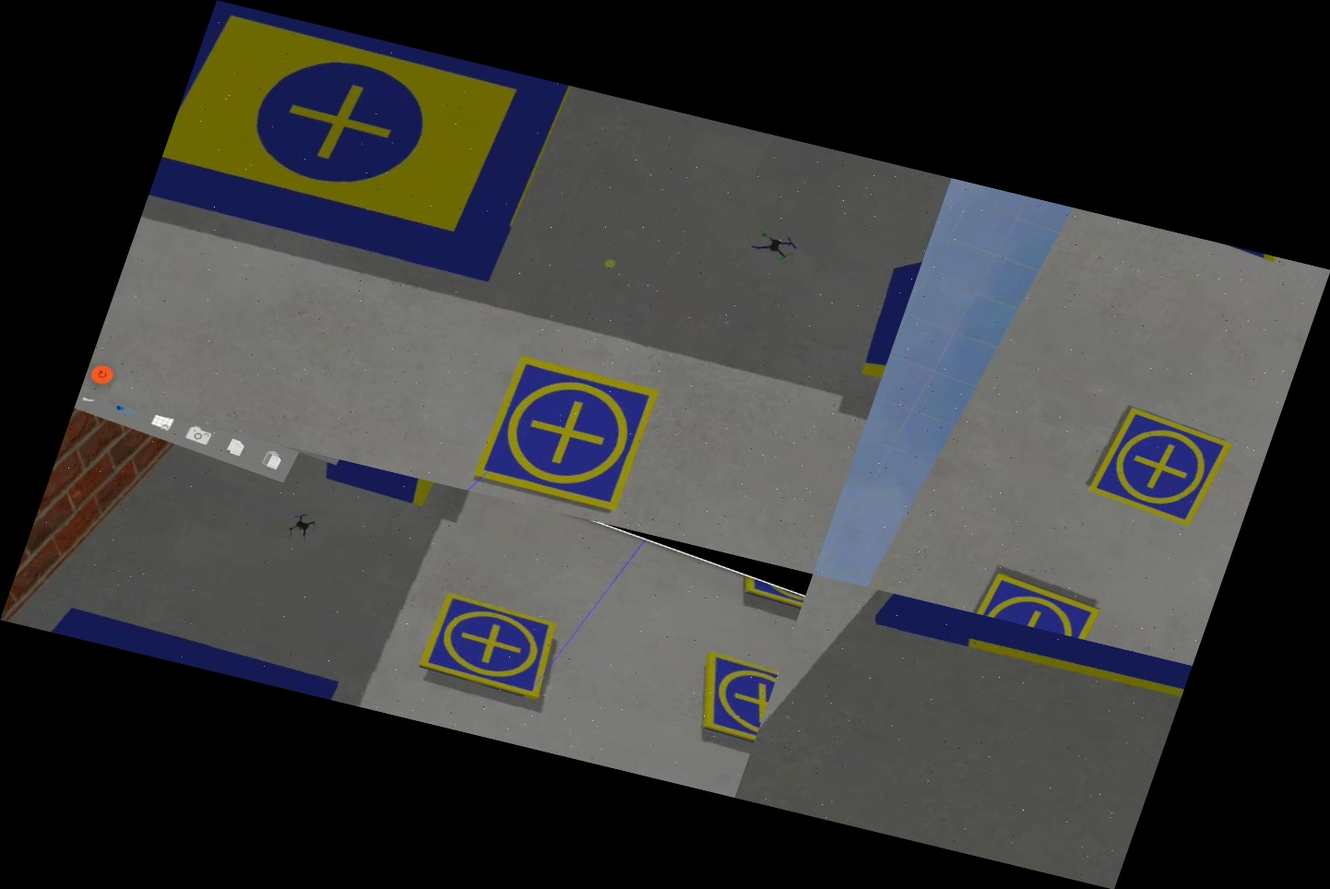large_base: (134, 0, 590, 327), (861, 591, 1191, 733)
small_base: (456, 336, 681, 529), (402, 584, 579, 715), (1084, 404, 1234, 532), (670, 645, 781, 756), (968, 568, 1107, 642)
